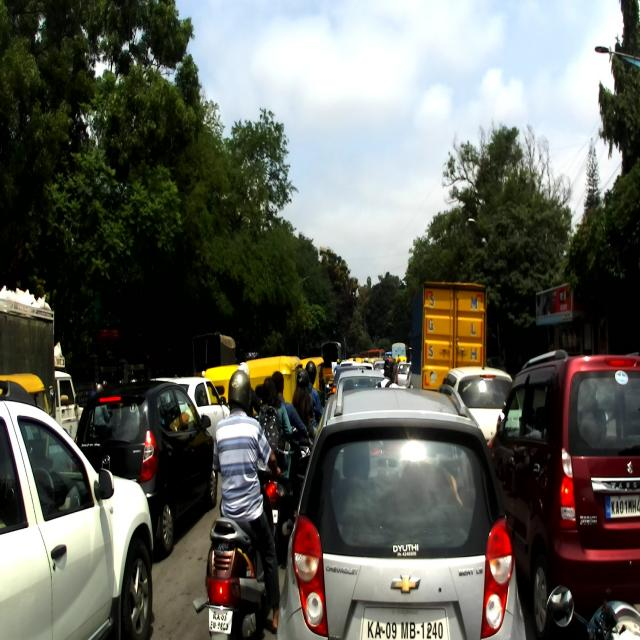Car_Chevrolet: (277, 382, 535, 639)
Car_Hyundai: (72, 379, 218, 559)
Car_Maruti-Suzuki: (485, 350, 637, 638)
scooter: (204, 455, 284, 640)
